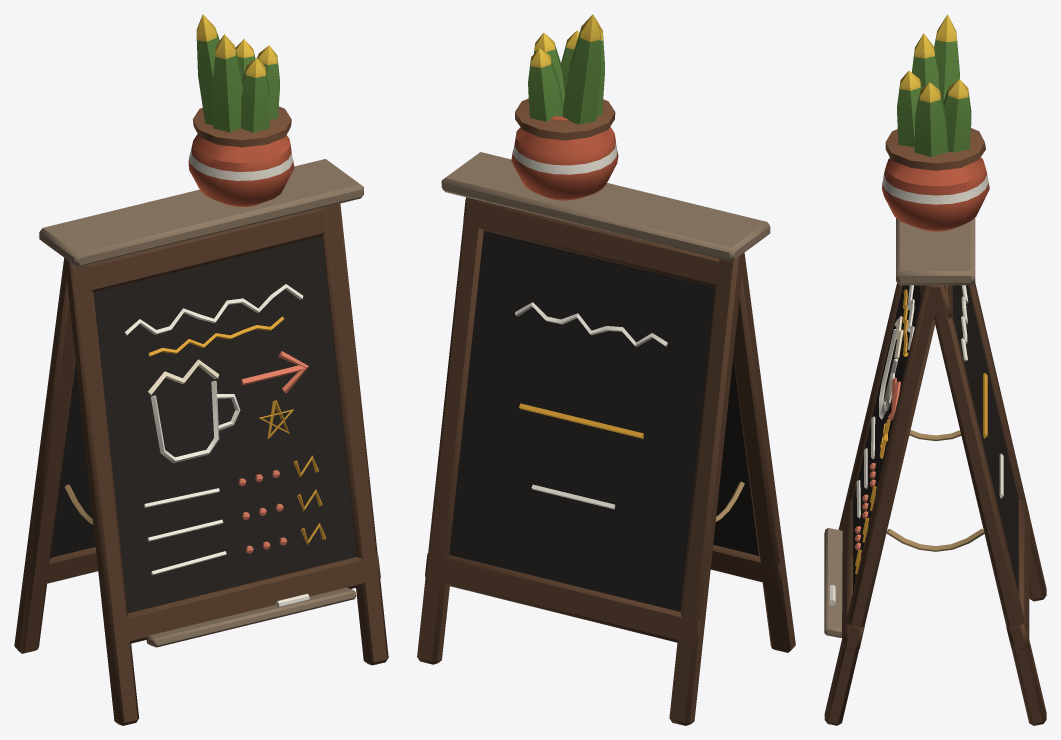
The model's file is deco_shop_sign_a_frame.fbx.
The picture shows the model from 3 angles, left to right: view 1: azimuth 30°, elevation 25°; view 2: azimuth 150°, elevation 25°; view 3: azimuth 270°, elevation 25°; orthographic projection. The views are drawn at different scales.
Visible parts, largest first — view 1: ShopSign_AFrame_Boards, ShopSign_AFrame_Frame, ShopSign_AFrame_Pot; view 2: ShopSign_AFrame_Boards, ShopSign_AFrame_Frame, ShopSign_AFrame_Pot; view 3: ShopSign_AFrame_Frame, ShopSign_AFrame_Pot, ShopSign_AFrame_Boards.
Part boxes in pixels (<box>): ShopSign_AFrame_Boards: <box>50,236,356,613</box>; ShopSign_AFrame_Frame: <box>14,159,388,725</box>; ShopSign_AFrame_Pot: <box>188,14,294,206</box>; ShopSign_AFrame_Boards: <box>449,230,758,611</box>; ShopSign_AFrame_Frame: <box>417,152,795,725</box>; ShopSign_AFrame_Pot: <box>511,14,618,200</box>; ShopSign_AFrame_Frame: <box>824,217,1046,725</box>; ShopSign_AFrame_Pot: <box>882,14,989,231</box>; ShopSign_AFrame_Boards: <box>829,285,1018,605</box>.
Bounding box in the file's own units: 86 × 181 × 56.08.
